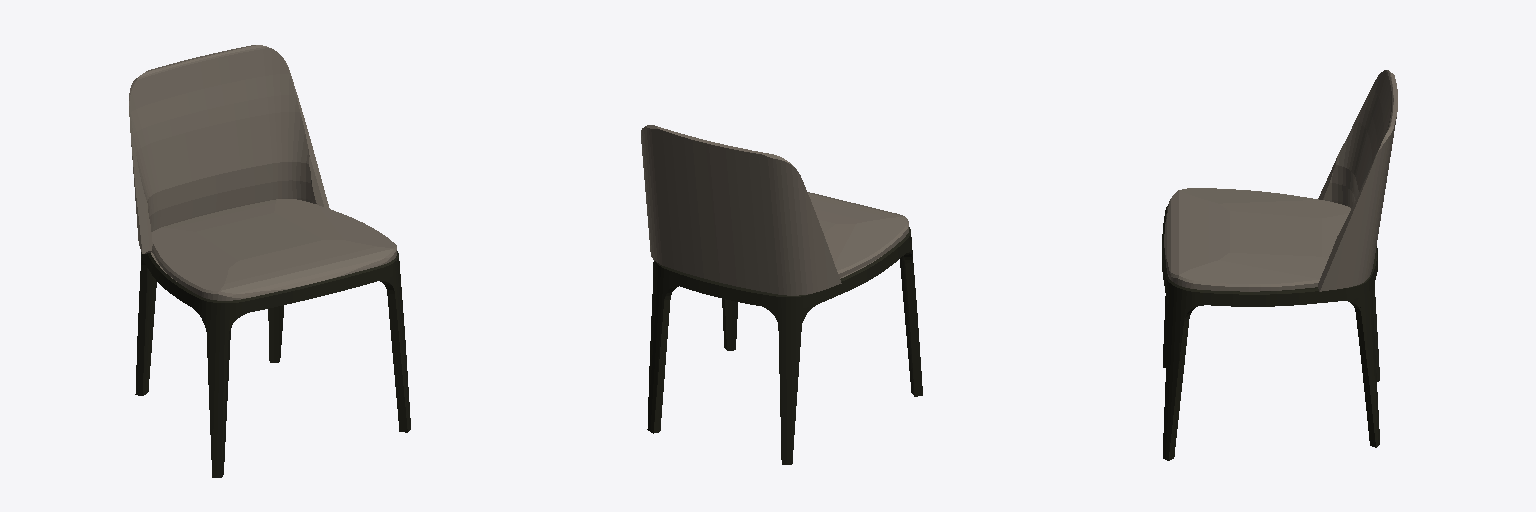
File: chair12.obj
3 renders of one model, left to right at view 1: azimuth 30°, elevation 25°; view 2: azimuth 150°, elevation 25°; view 3: azimuth 270°, elevation 25°, orthographic.
Visible parts, largest first — view 1: Mesh1 Component_2_1 skpkF2Idt1 Model; view 2: Mesh1 Component_2_1 skpkF2Idt1 Model; view 3: Mesh1 Component_2_1 skpkF2Idt1 Model.
Part boxes in pixels (bbox=[...]): Mesh1 Component_2_1 skpkF2Idt1 Model: bbox=[129, 45, 410, 477]; Mesh1 Component_2_1 skpkF2Idt1 Model: bbox=[641, 125, 922, 464]; Mesh1 Component_2_1 skpkF2Idt1 Model: bbox=[1162, 70, 1397, 460].
Bounding box in the file's own units: 164 × 242 × 166.